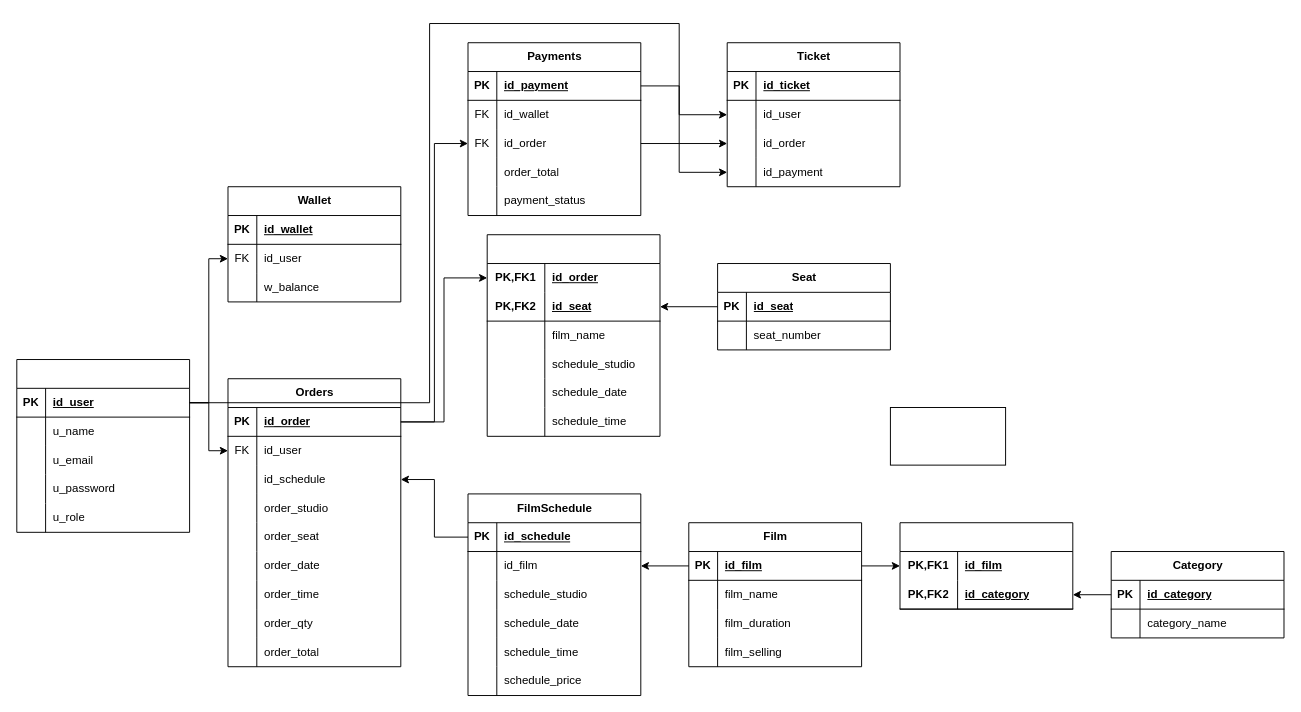
This 1301x712 diagram has some shape labels left out. Here are the shapes that lost their labels. From the top down, the box of each, then its label:
(486, 234, 660, 436): OrderSeat
(16, 359, 190, 532): Account
(889, 407, 1006, 465): Reminder: Tambah Ruangan
(899, 522, 1073, 609): FilmCategory
